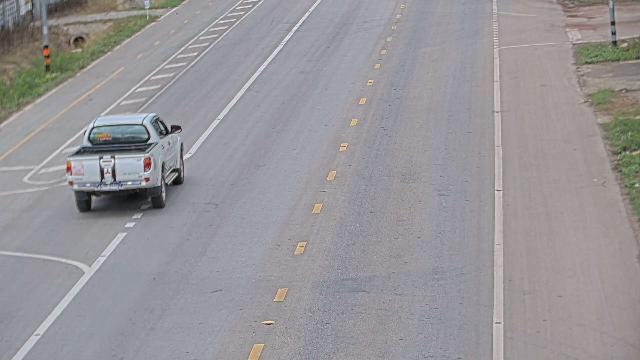pickup-truck: (64, 111, 185, 213)
